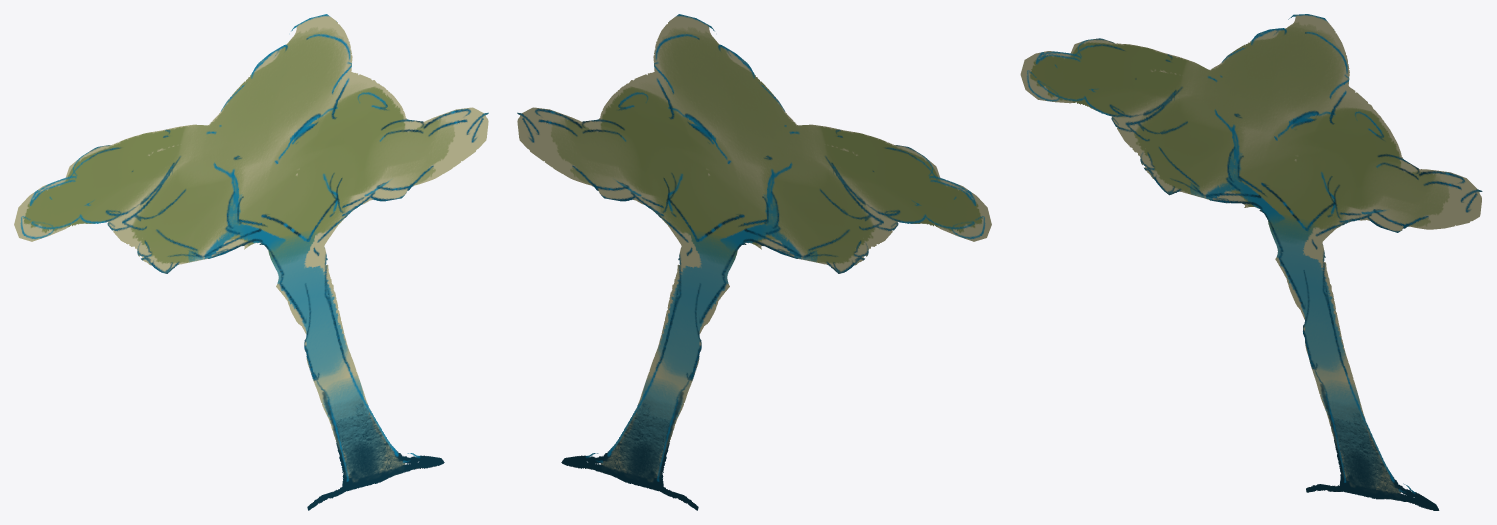
Rendered from tree_1.fbx.
The picture shows the model from 3 angles, left to right: view 1: azimuth 30°, elevation 25°; view 2: azimuth 150°, elevation 25°; view 3: azimuth 330°, elevation 25°; orthographic projection. The views are drawn at different scales.
Visible parts, largest first — view 1: mask5; view 2: mask5; view 3: mask5.
Part boxes in pixels (x1,y1,x2,y2): mask5: [14, 14, 488, 510]; mask5: [517, 14, 991, 510]; mask5: [1020, 14, 1482, 510].
Bounding box in the file's own units: 12.32 × 12.21 × 1.22e-08.
1 material, 1 textured.
